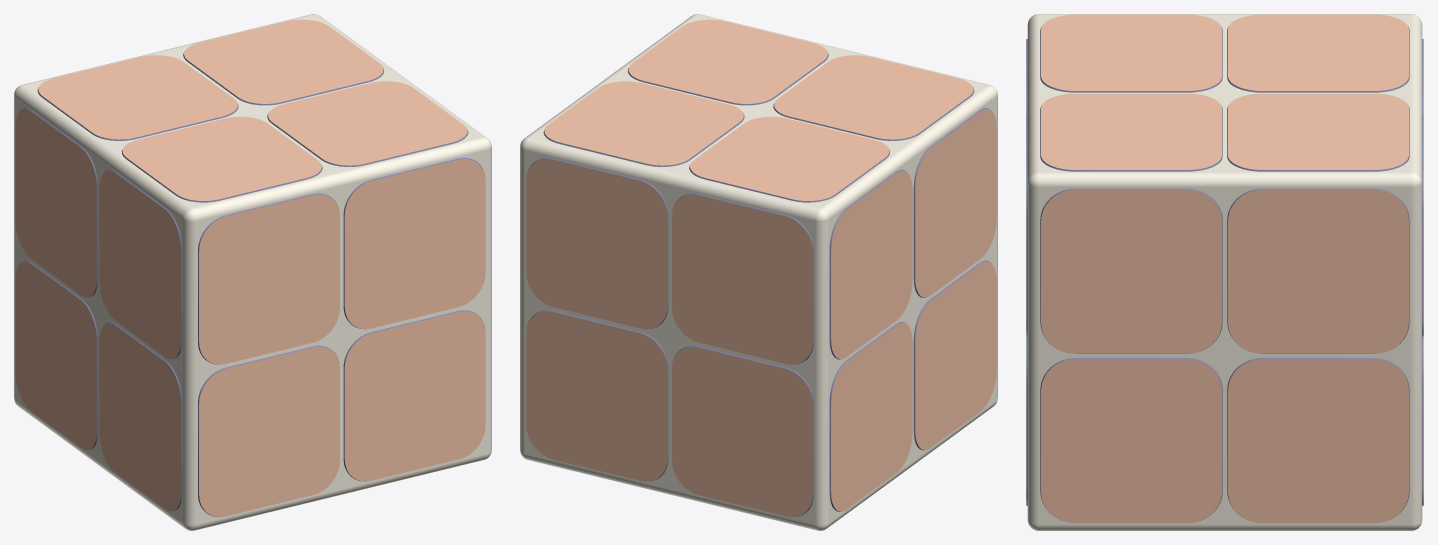
Rendered from R4B_BigCube2.fbx.
3 renders of one model, left to right at view 1: azimuth 30°, elevation 25°; view 2: azimuth 150°, elevation 25°; view 3: azimuth 270°, elevation 25°, orthographic. The views are drawn at different scales.
Visible parts, largest first — view 1: R4B_BigCube2; view 2: R4B_BigCube2; view 3: R4B_BigCube2.
Part boxes in pixels (<box>): R4B_BigCube2: <box>14,14,491,530</box>; R4B_BigCube2: <box>520,14,997,530</box>; R4B_BigCube2: <box>1026,14,1423,530</box>.
Bounding box in the file's own units: 1.07 × 1.07 × 1.07.
